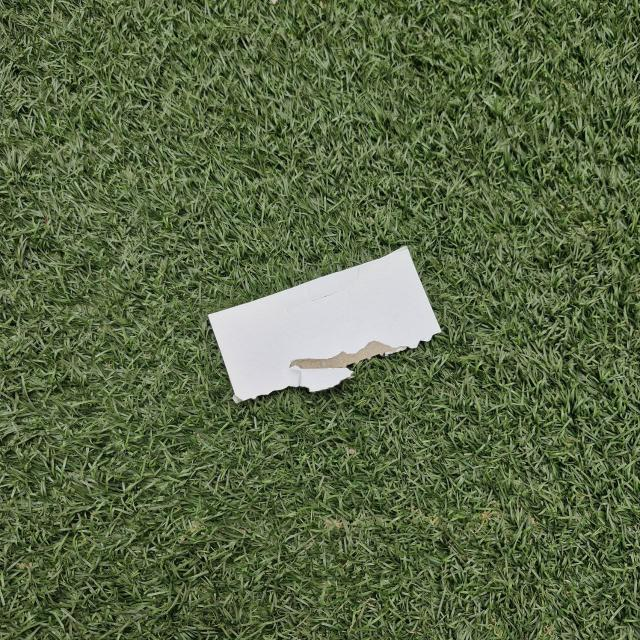paper: (190, 242, 456, 403)
